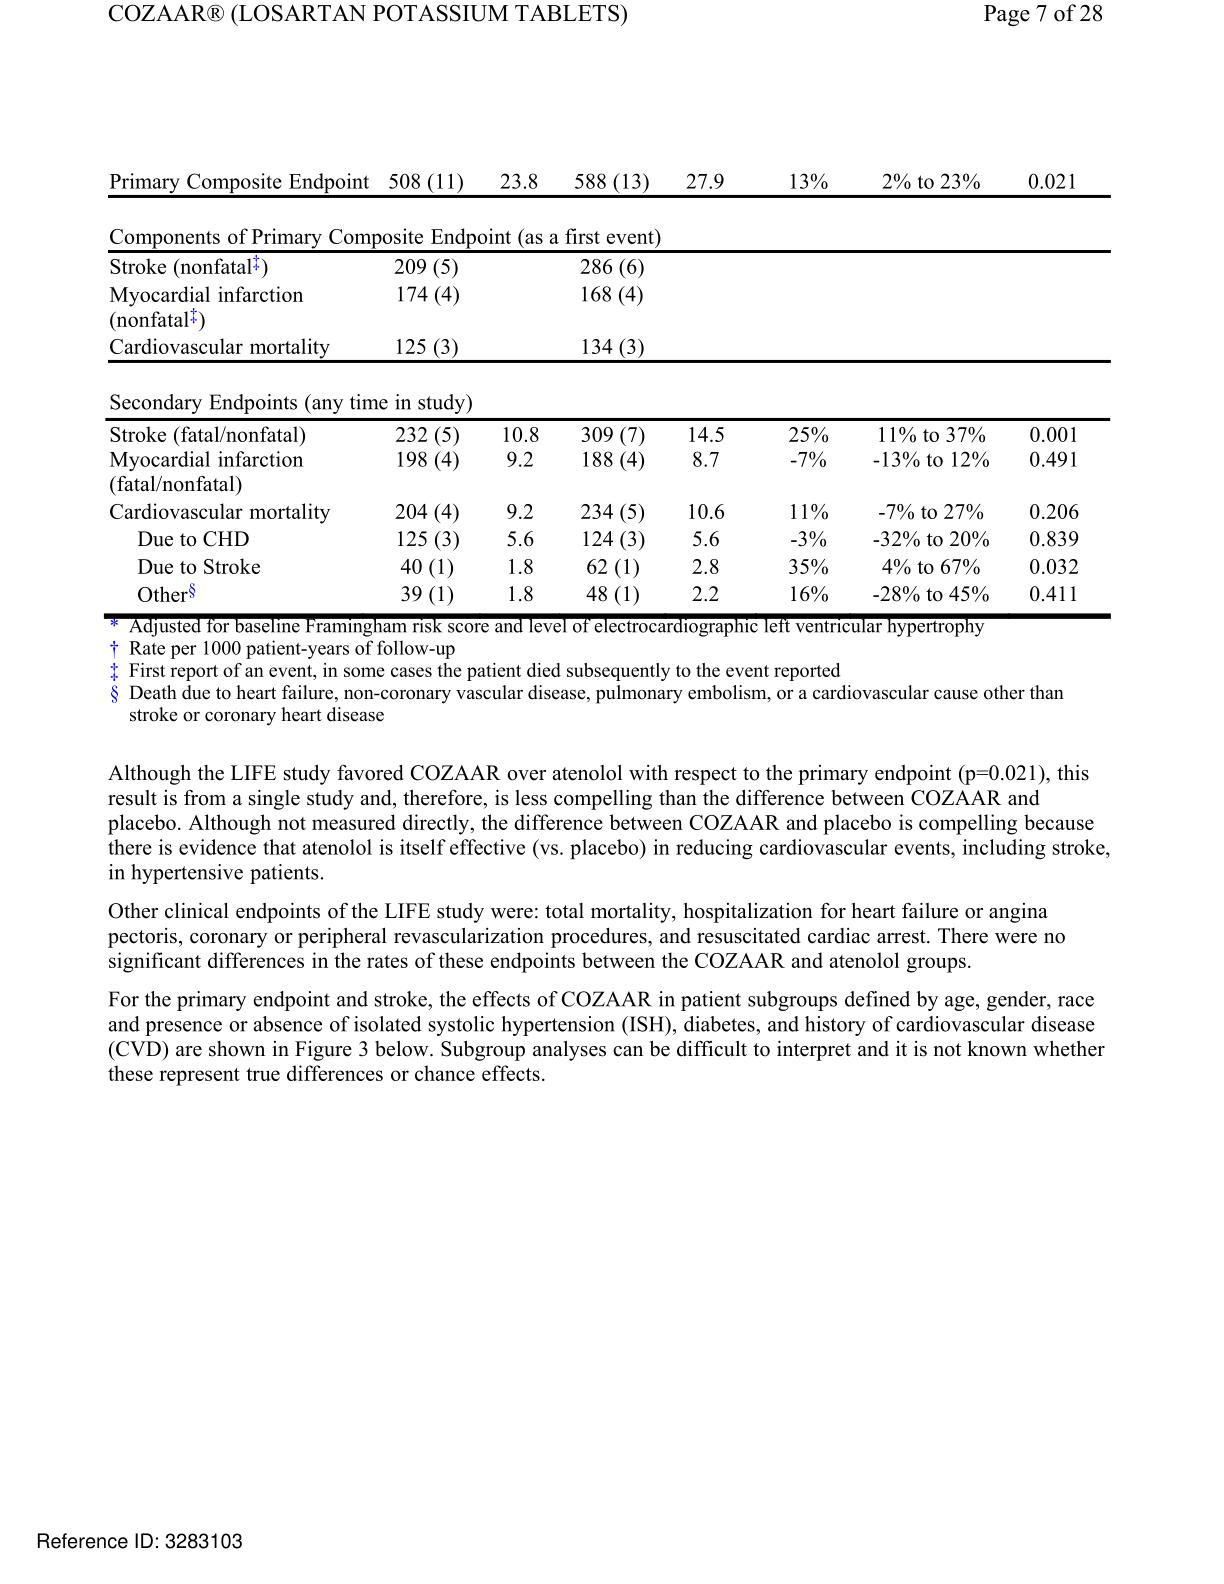partial_lined_merged_cells: (102, 167, 1112, 620)
